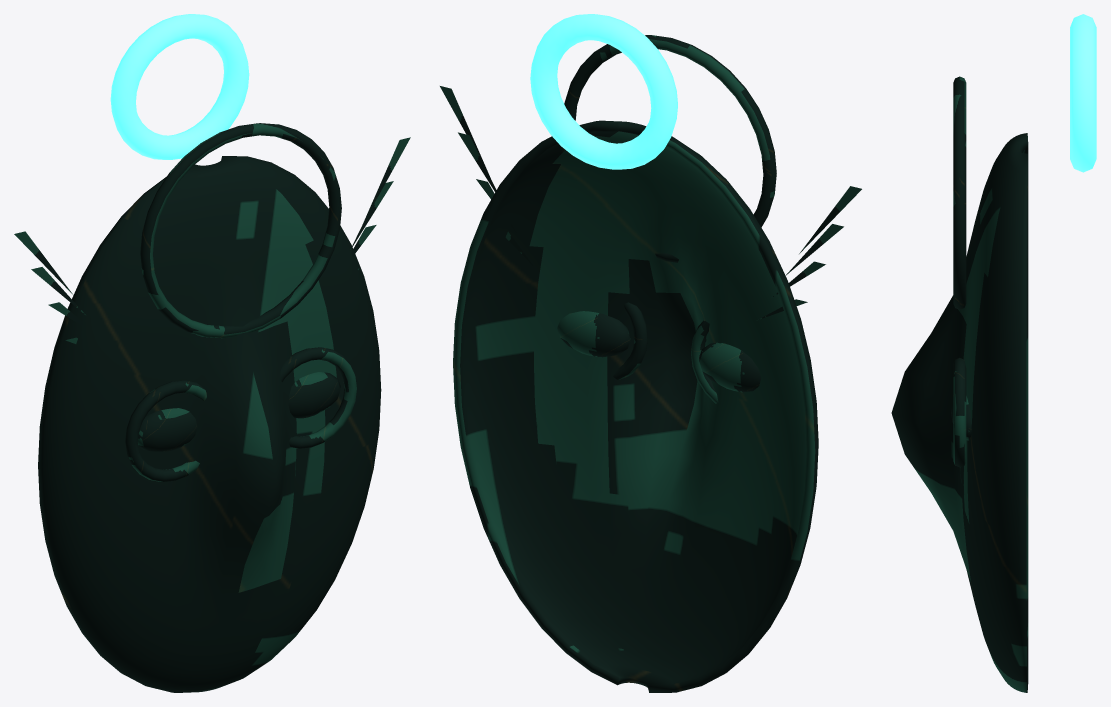
The model's file is sun_mask_secret_pattern_jade.fbx.
3 views of the same model, side by side, from view 1: azimuth 30°, elevation 25°; view 2: azimuth 150°, elevation 25°; view 3: azimuth 270°, elevation 25° (orthographic). The views are drawn at different scales.
Visible parts, largest first — view 1: TH10_SunMask_Face, TH10_SunMask_Handle, TH10_SunMask_Brow, TH10_SunMask_EyeRim, TH10_SunMask_EyeRim.001, TH10_SunMask_Eye, TH10_SunMask_Eye.001; view 2: TH10_SunMask_Face, TH10_SunMask_Handle, TH10_SunMask_Brow, TH10_SunMask_Eye.001, TH10_SunMask_Eye, TH10_SunMask_EyeRim.001, TH10_SunMask_EyeRim; view 3: TH10_SunMask_Face, TH10_SunMask_Handle, TH10_SunMask_Brow, TH10_SunMask_EyeRim.001.
Part boxes in pixels (<box>): TH10_SunMask_Face: <box>38,156,381,692</box>; TH10_SunMask_Handle: <box>110,14,249,159</box>; TH10_SunMask_Brow: <box>140,123,341,338</box>; TH10_SunMask_EyeRim: <box>125,380,206,481</box>; TH10_SunMask_EyeRim.001: <box>280,347,356,448</box>; TH10_SunMask_Eye: <box>137,408,197,452</box>; TH10_SunMask_Eye.001: <box>288,372,340,418</box>; TH10_SunMask_Face: <box>453,120,818,692</box>; TH10_SunMask_Handle: <box>530,14,677,169</box>; TH10_SunMask_Brow: <box>564,35,776,262</box>; TH10_SunMask_Eye.001: <box>557,311,630,357</box>; TH10_SunMask_Eye: <box>699,342,760,392</box>; TH10_SunMask_EyeRim.001: <box>613,302,647,379</box>; TH10_SunMask_EyeRim: <box>691,320,718,403</box>; TH10_SunMask_Face: <box>891,133,1028,692</box>; TH10_SunMask_Handle: <box>1070,14,1096,172</box>; TH10_SunMask_Brow: <box>953,76,966,309</box>; TH10_SunMask_EyeRim.001: <box>953,357,966,467</box>.
Size of the model in its own units: 0.21 by 0.3295 by 0.093.
2 materials, 1 textured.
